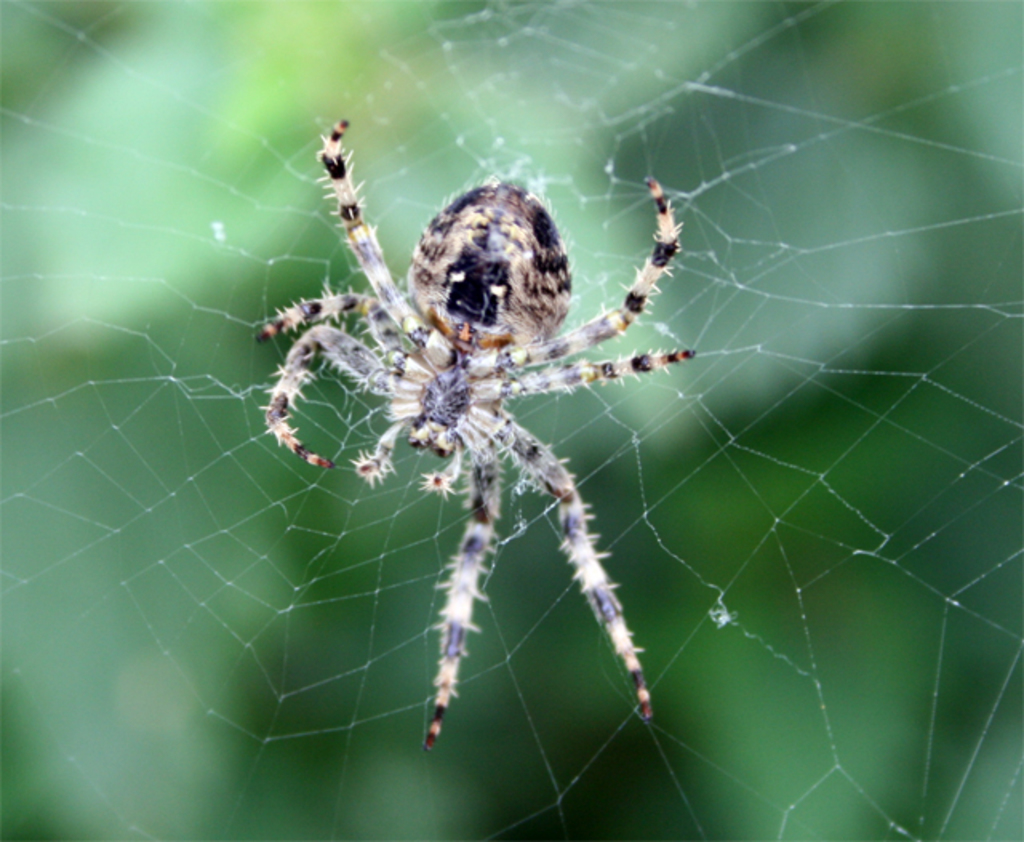person: (260, 119, 693, 564)
